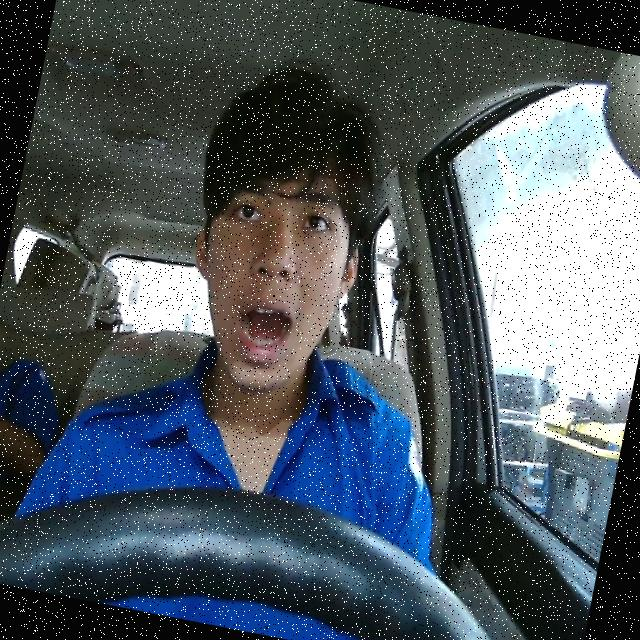yarning: (171, 148, 375, 404)
